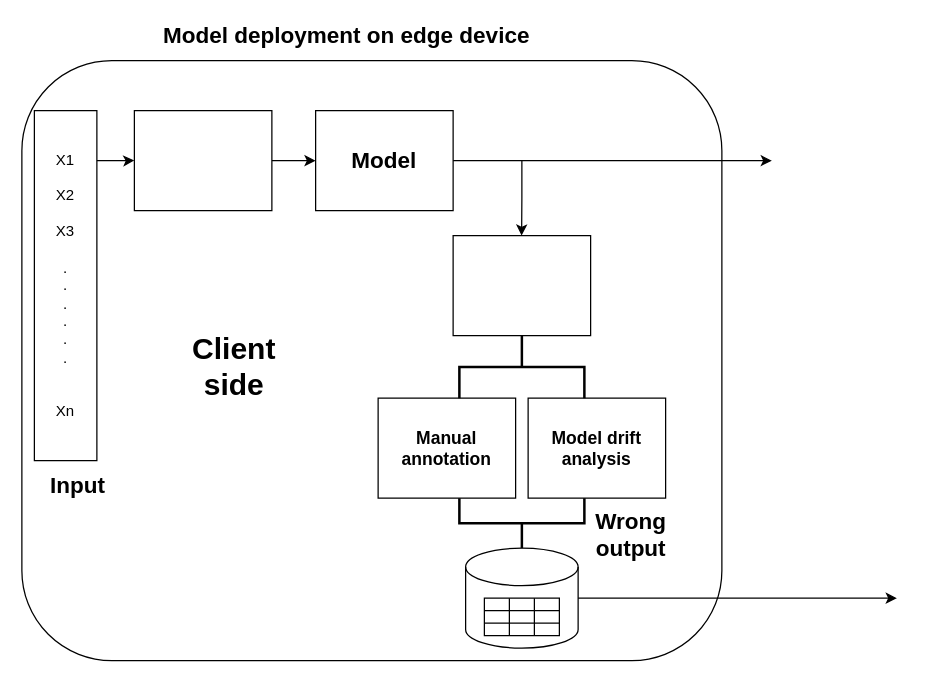
The diagram is 929 pixels wide and 683 high, and some of its shapes have lost their labels. Each missing label, with the box of its shape:
Data drift analysis: (133, 109, 272, 211)
Output assessment and feedback model: (452, 234, 591, 336)
